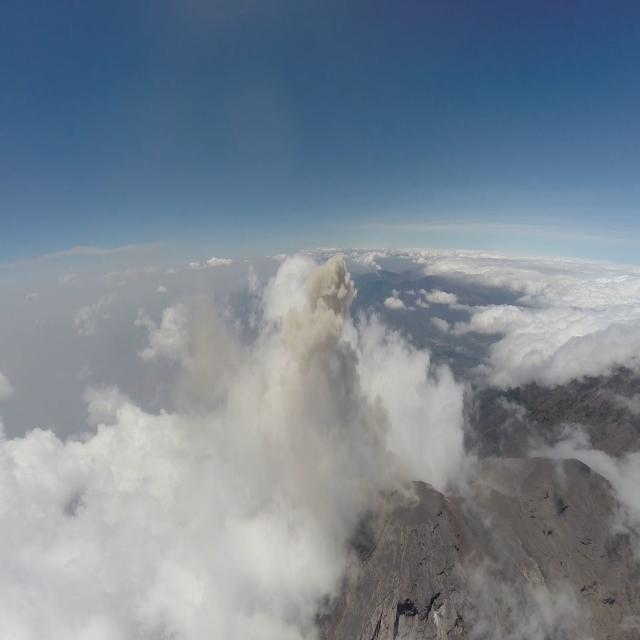Plume: (286, 252, 404, 496)
Summit: (292, 480, 479, 640)
